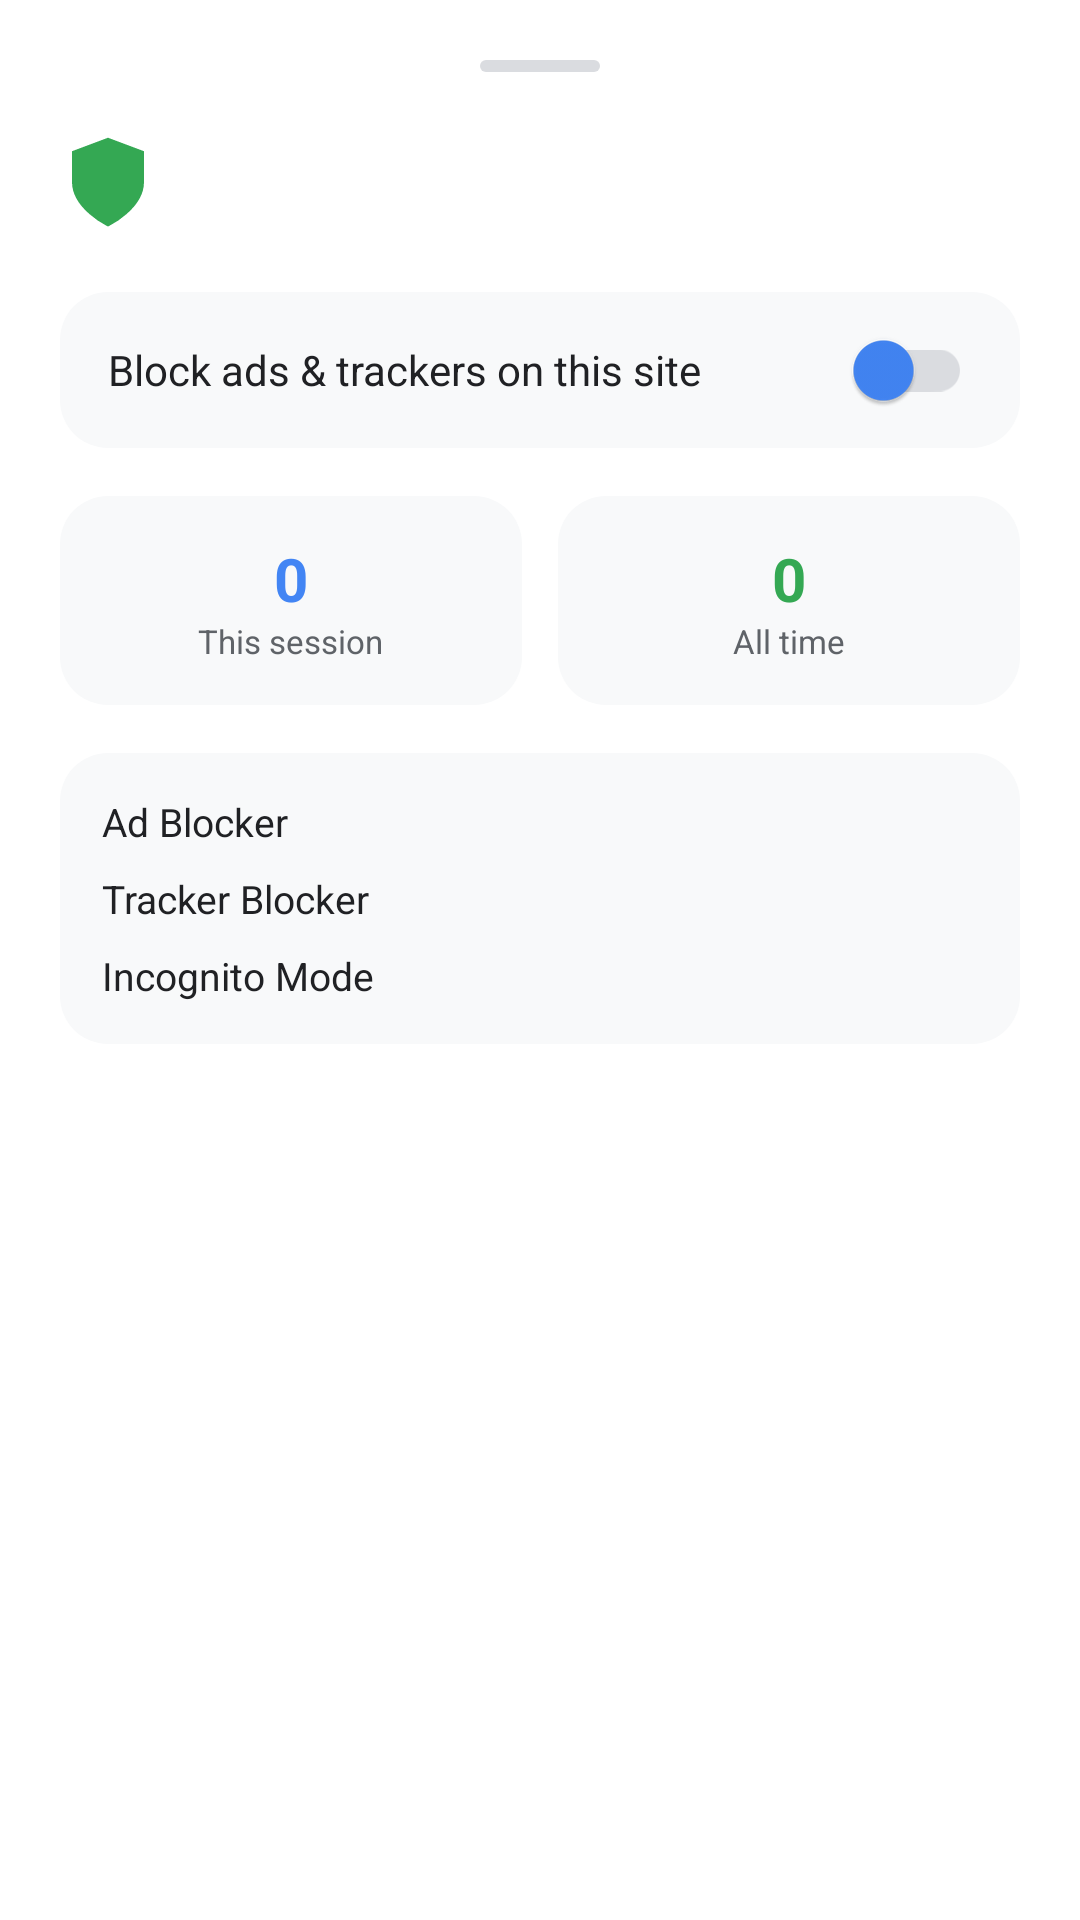

Icons on this 1080w x 1920h Android screen, each with its box as {"left": x1, "top": y1, "right": x2, "bottom": y2}:
shield: {"left": 72, "top": 137, "right": 144, "bottom": 227}
